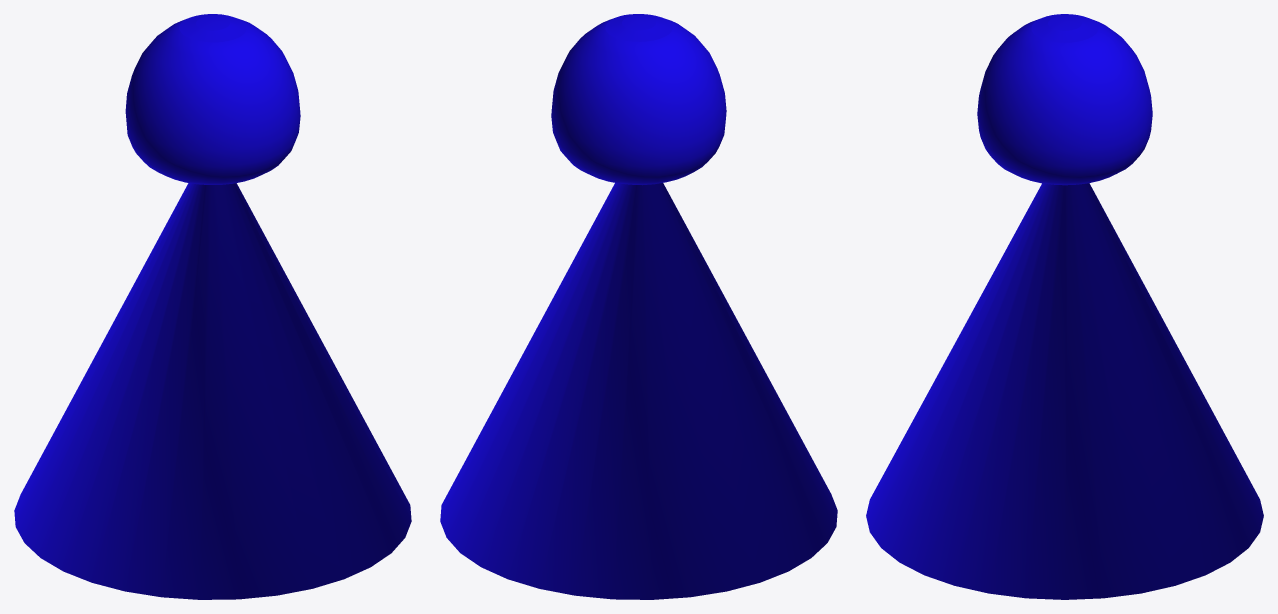
File: player.fbx
The picture shows the model from 3 angles, left to right: view 1: azimuth 30°, elevation 25°; view 2: azimuth 150°, elevation 25°; view 3: azimuth 270°, elevation 25°; orthographic projection.
Parts seen in each view (by area): view 1: Сфера; view 2: Сфера; view 3: Сфера.
Boxes of the visible parts, x1,y1,x2,y2 form: Сфера: [14, 14, 411, 599]; Сфера: [440, 14, 837, 599]; Сфера: [866, 14, 1263, 599].
Bounding box in the file's own units: 326 × 447 × 326.
